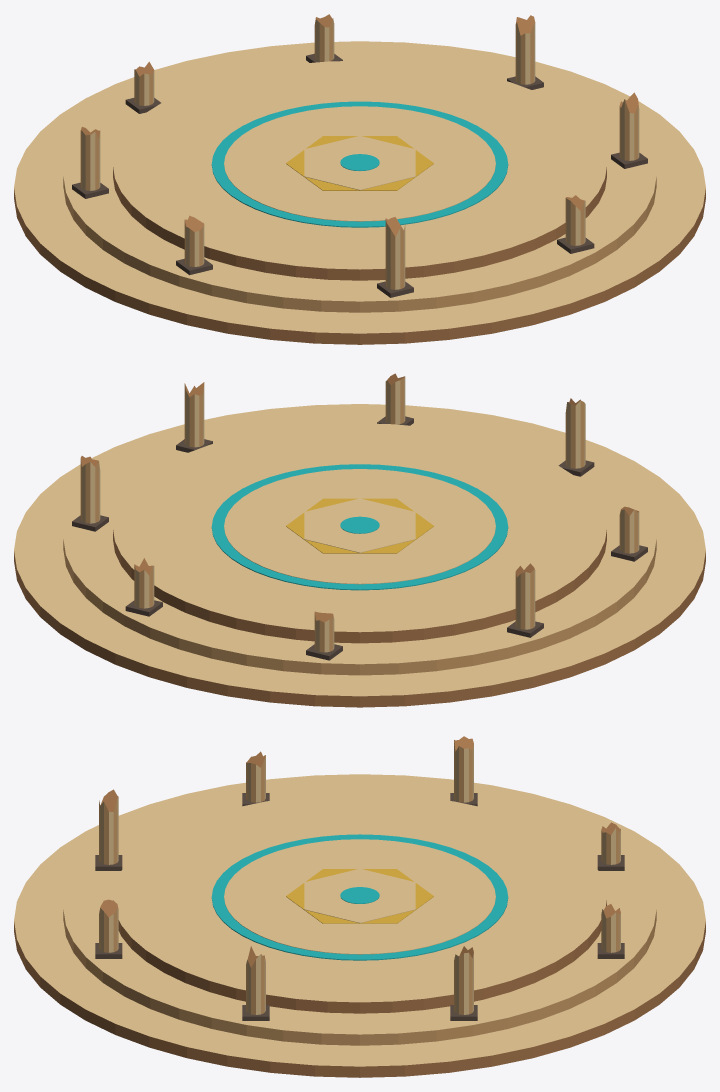
File: DjinnArena.fbx
3 views of the same model, one above another, from view 1: azimuth 30°, elevation 25°; view 2: azimuth 150°, elevation 25°; view 3: azimuth 270°, elevation 25° (orthographic).
Visible parts, largest first — view 1: DjinnArena; view 2: DjinnArena; view 3: DjinnArena.
Part boxes in pixels (box(x1,y1,x2,y2)): DjinnArena: box(14, 14, 705, 344); DjinnArena: box(14, 373, 705, 707); DjinnArena: box(14, 736, 705, 1077).
Size of the model in its own units: 56 by 8.46 by 56.
Materials: 1 (1 with a texture image).
